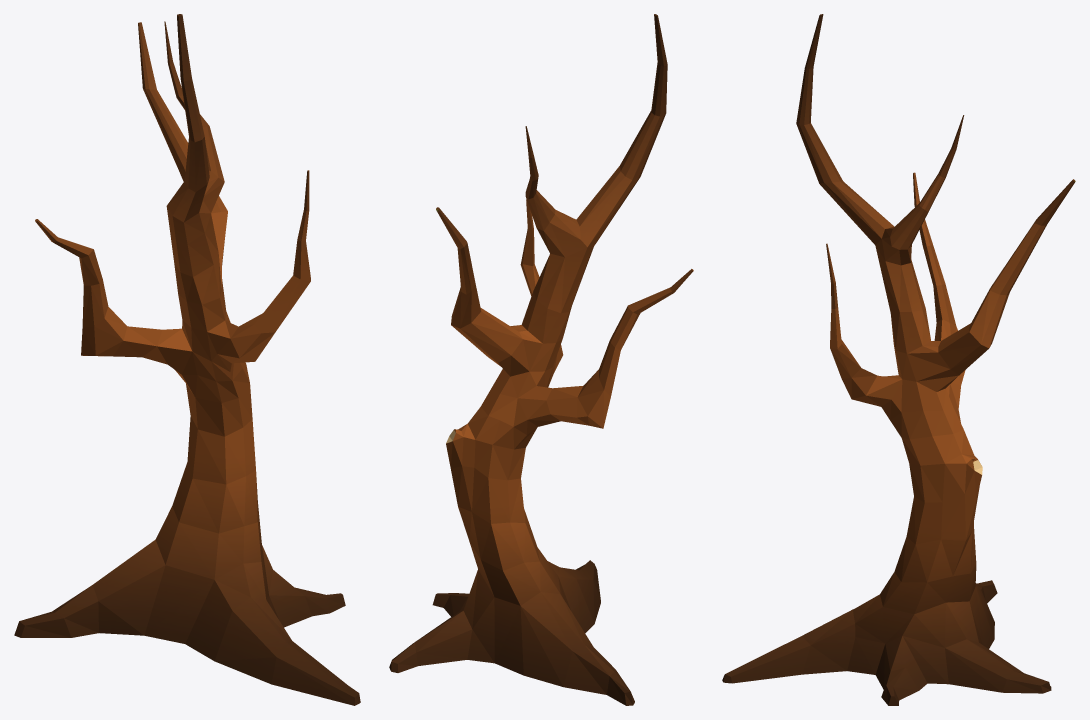
The model's file is TreeDead-01.FBX.
3 renders of one model, left to right at view 1: azimuth 30°, elevation 25°; view 2: azimuth 150°, elevation 25°; view 3: azimuth 270°, elevation 25°, orthographic. The views are drawn at different scales.
Visible parts, largest first — view 1: TreeDead-01; view 2: TreeDead-01; view 3: TreeDead-01.
Boxes of the visible parts, box(x1,y1,x2,y2) form: TreeDead-01: box(14, 14, 360, 705); TreeDead-01: box(389, 14, 693, 705); TreeDead-01: box(722, 14, 1075, 705).
Bounding box in the file's own units: 448 × 984 × 514.
Materials: 1 (1 with a texture image).
